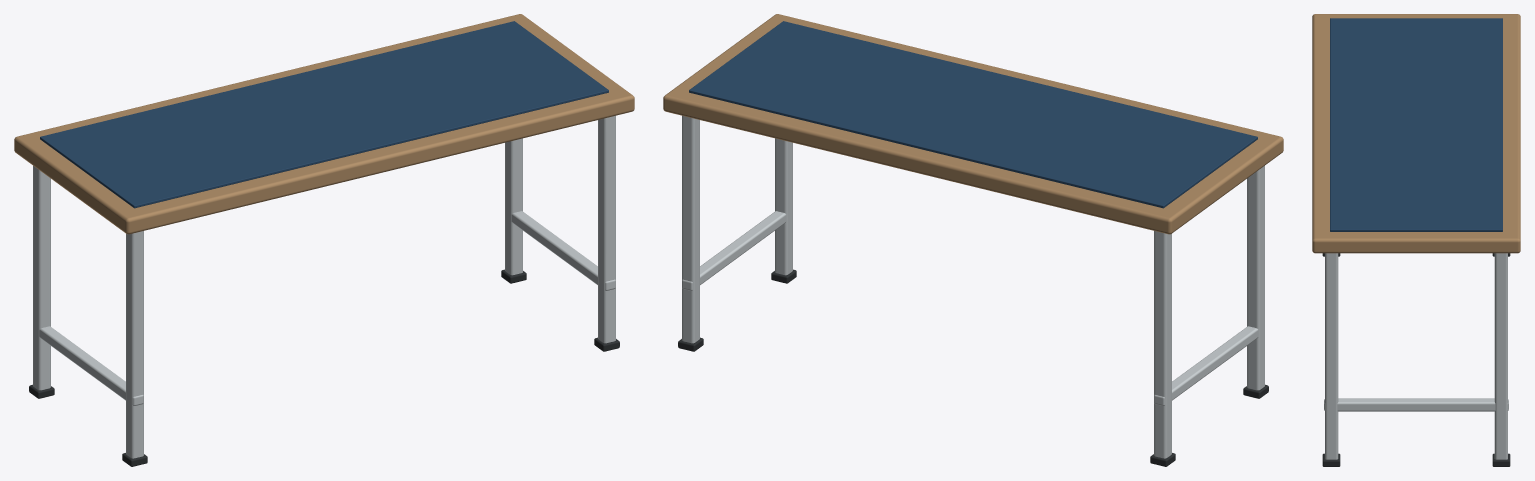
File: rowing-boathouse-and-regatta-course-boat-repair-bench-4ab641a8__32145.glb
The picture shows the model from 3 angles, left to right: view 1: azimuth 30°, elevation 25°; view 2: azimuth 150°, elevation 25°; view 3: azimuth 270°, elevation 25°; orthographic projection. The views are drawn at different scales.
Parts seen in each view (by area): view 1: boat-repair-bench; view 2: boat-repair-bench; view 3: boat-repair-bench.
Boxes of the visible parts, left/top/right/bottom form: boat-repair-bench: left=14, top=14, right=634, bottom=466; boat-repair-bench: left=663, top=14, right=1283, bottom=466; boat-repair-bench: left=1312, top=14, right=1520, bottom=466.
Bounding box in the file's own units: 1.8 × 0.869 × 0.6999.
